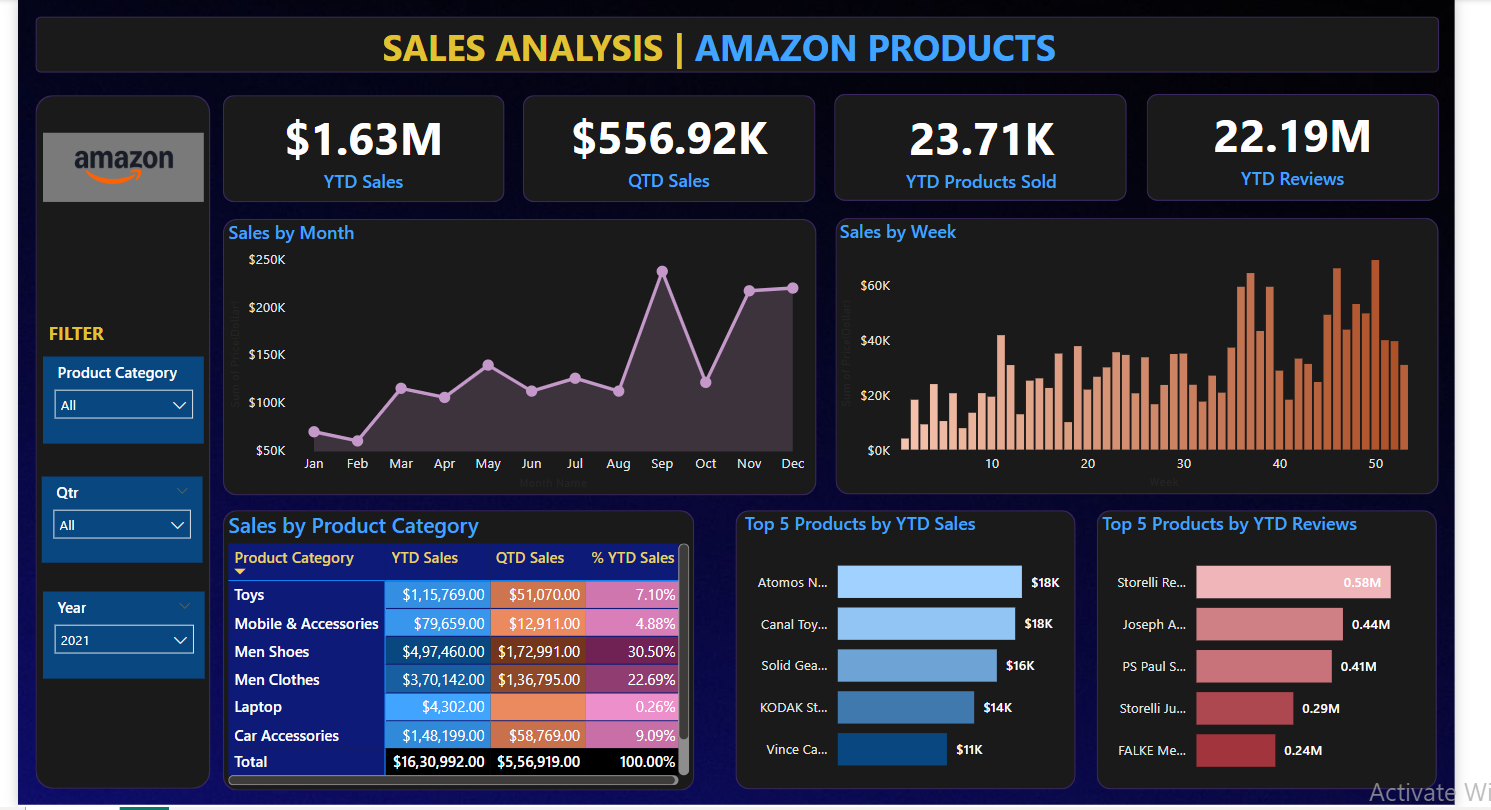

The page's visual inventory and layout, read from the dashboard file:
{"tool":"powerbi","page":{"name":"Page 1","canvas":[1280,720],"ordinal":0},"visuals":[{"type":"shape","box":[15.9,15.9,1250,50],"z":0},{"type":"shape","box":[15.7,85.7,155.6,617.7],"z":1000},{"type":"shape","box":[182.2,85.7,250.9,95.3],"z":2000},{"type":"shape","box":[449.6,85.7,260.6,95.3],"z":3000},{"type":"shape","box":[727.3,84.5,260.6,95.3],"z":4000},{"type":"shape","box":[1005,84.5,260.6,95.3],"z":5000},{"type":"card","fields":{"Values":["Amazon_Data.YTD Sales"]},"box":[182.2,86.9,250.9,94.1],"z":6000},{"type":"card","fields":{"Values":["Amazon_Data.QTD Sales"]},"box":[450,85.7,260.6,94.1],"z":7000},{"type":"card","fields":{"Values":["Amazon_Data.YTD Products Sold"]},"box":[727.5,86.9,260.6,94.1],"z":8000},{"type":"card","fields":{"Values":["Amazon_Data.YTD Reviews"]},"box":[1005,85.7,260.6,91.7],"z":9000},{"type":"textbox","box":[319.7,15.7,640.6,59.1],"z":10000},{"type":"shape","box":[182.2,195.4,528.4,246.1],"z":11000},{"type":"areaChart","title":"Sales by Month","fields":{"Category":["Date Table.Month Name"],"Y":["Amazon_Data.Price(Dollar)"]},"box":[182.2,195.4,528.4,246.1],"z":12000},{"type":"shape","box":[727.9,195.3,537.2,246.5],"z":13000},{"type":"columnChart","title":"Sales by Week","fields":{"Category":["Date Table.Week"],"Y":["Amazon_Data.Price(Dollar)"]},"box":[726.7,195.3,537.2,246.5],"z":14000},{"type":"shape","box":[639.4,454.8,302.8,248.5],"z":15000},{"type":"shape","box":[182.2,454.8,419.8,249.7],"z":16000},{"type":"pivotTable","title":"Sales by Product Category","fields":{"Rows":["Amazon_Data.Product Category"],"Values":["Amazon_Data.YTD Sales1","Amazon_Data.QTD Sales","Amazon_Data.YTD Sales"]},"box":[182.2,454.8,419.8,249.7],"z":17000},{"type":"shape","box":[960.3,454.8,302.8,248.5],"z":18000},{"type":"clusteredBarChart","title":"Top 5 Products by YTD Sales","fields":{"Y":["Amazon_Data.YTD Sales"],"Category":["Amazon_Data.Product Description"]},"box":[641.8,454.8,300.4,248.5],"z":19000},{"type":"clusteredBarChart","title":"Top 5 Products by YTD Reviews","fields":{"Category":["Amazon_Data.Product Description"],"Y":["Amazon_Data.YTD Reviews"]},"box":[960.3,454.8,302.8,249.7],"z":20000},{"type":"slicer","fields":{"Values":["Amazon_Data.Product Category"]},"box":[21.7,318.5,143.6,77.2],"z":21000},{"type":"slicer","fields":{"Values":["Date Table.Qtr"]},"box":[21.7,441.6,143.6,77.2],"z":22000},{"type":"textbox","box":[21.7,281.1,102.5,37.4],"z":24000},{"type":"image","box":[21.7,119.4,143.6,61.5],"z":24001}]}

Visuals, with their boxes on the page's 1280x720 design canvas (x1, y1, x2, y2). These are canvas units, not pixel positions in the 1491x810 screenshot, which may show the page scaled, cropped or inside an application window:
shape: <region>16, 16, 1266, 66</region>
shape: <region>16, 86, 171, 703</region>
shape: <region>182, 86, 433, 181</region>
shape: <region>450, 86, 710, 181</region>
shape: <region>727, 84, 988, 180</region>
shape: <region>1005, 84, 1266, 180</region>
card - Amazon_Data.YTD Sales: <region>182, 87, 433, 181</region>
card - Amazon_Data.QTD Sales: <region>450, 86, 711, 180</region>
card - Amazon_Data.YTD Products Sold: <region>728, 87, 988, 181</region>
card - Amazon_Data.YTD Reviews: <region>1005, 86, 1266, 177</region>
textbox: <region>320, 16, 960, 75</region>
shape: <region>182, 195, 711, 442</region>
"Sales by Month" areaChart: <region>182, 195, 711, 442</region>
shape: <region>728, 195, 1265, 442</region>
"Sales by Week" columnChart: <region>727, 195, 1264, 442</region>
shape: <region>639, 455, 942, 703</region>
shape: <region>182, 455, 602, 704</region>
"Sales by Product Category" pivotTable: <region>182, 455, 602, 704</region>
shape: <region>960, 455, 1263, 703</region>
"Top 5 Products by YTD Sales" clusteredBarChart: <region>642, 455, 942, 703</region>
"Top 5 Products by YTD Reviews" clusteredBarChart: <region>960, 455, 1263, 704</region>
slicer - Amazon_Data.Product Category: <region>22, 318, 165, 396</region>
slicer - Date Table.Qtr: <region>22, 442, 165, 519</region>
textbox: <region>22, 281, 124, 318</region>
image: <region>22, 119, 165, 181</region>
